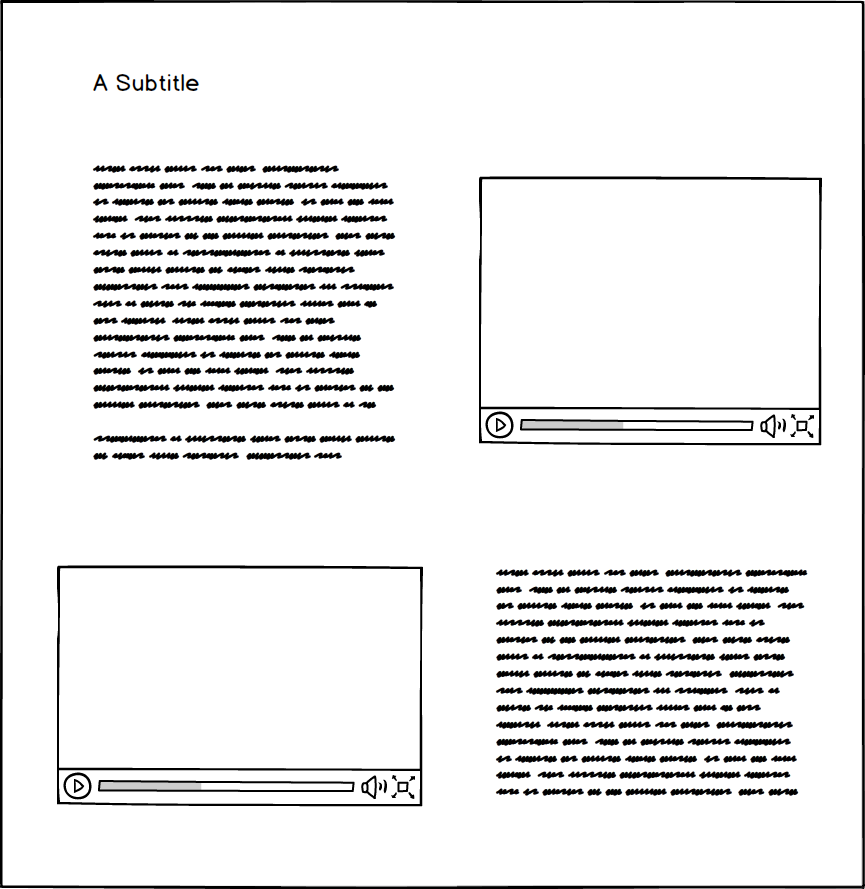h1: (90, 65, 206, 101)
p: (86, 159, 414, 469), (488, 561, 811, 808)
video: (470, 169, 832, 452), (52, 561, 429, 816)
